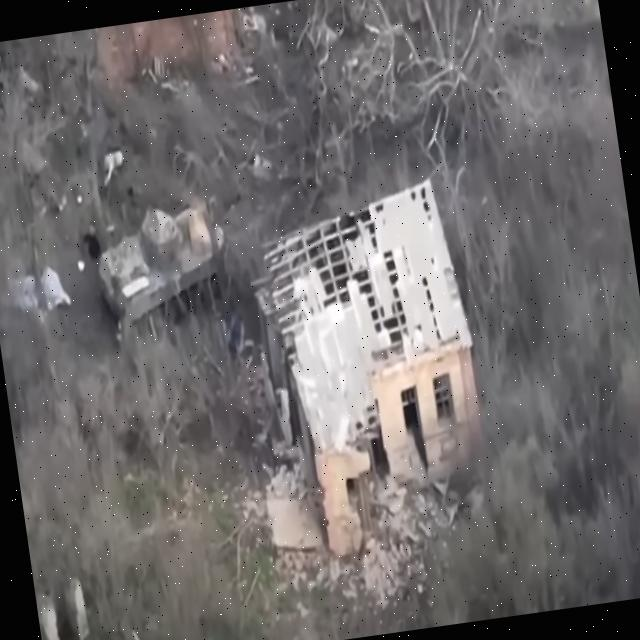AIFV: (87, 182, 243, 362)
